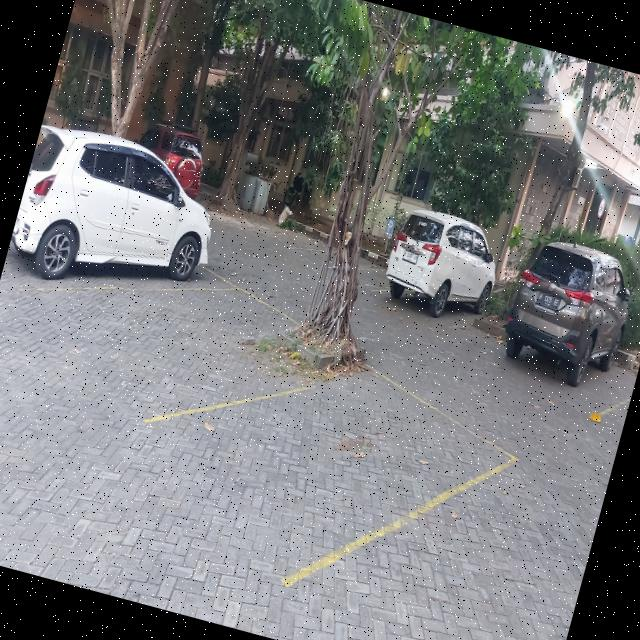empty: (146, 367, 517, 584), (35, 287, 370, 424)
occupied: (8, 125, 239, 289), (492, 242, 640, 415), (369, 211, 495, 328)
